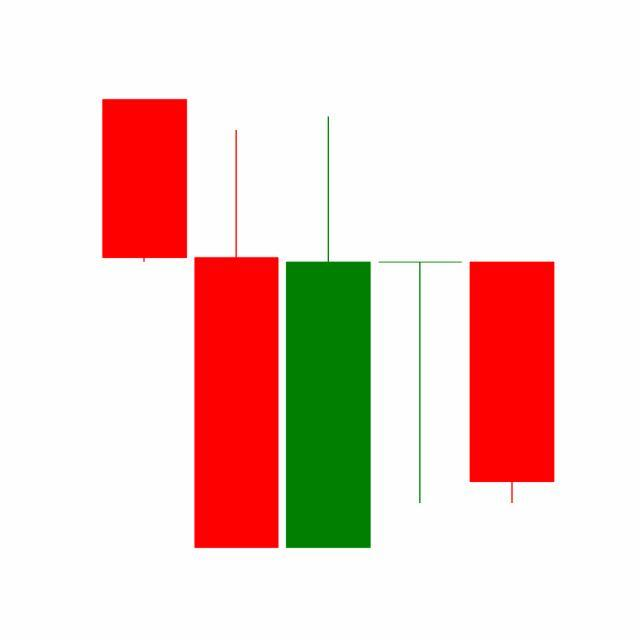Marubozu: (466, 259, 559, 507)
